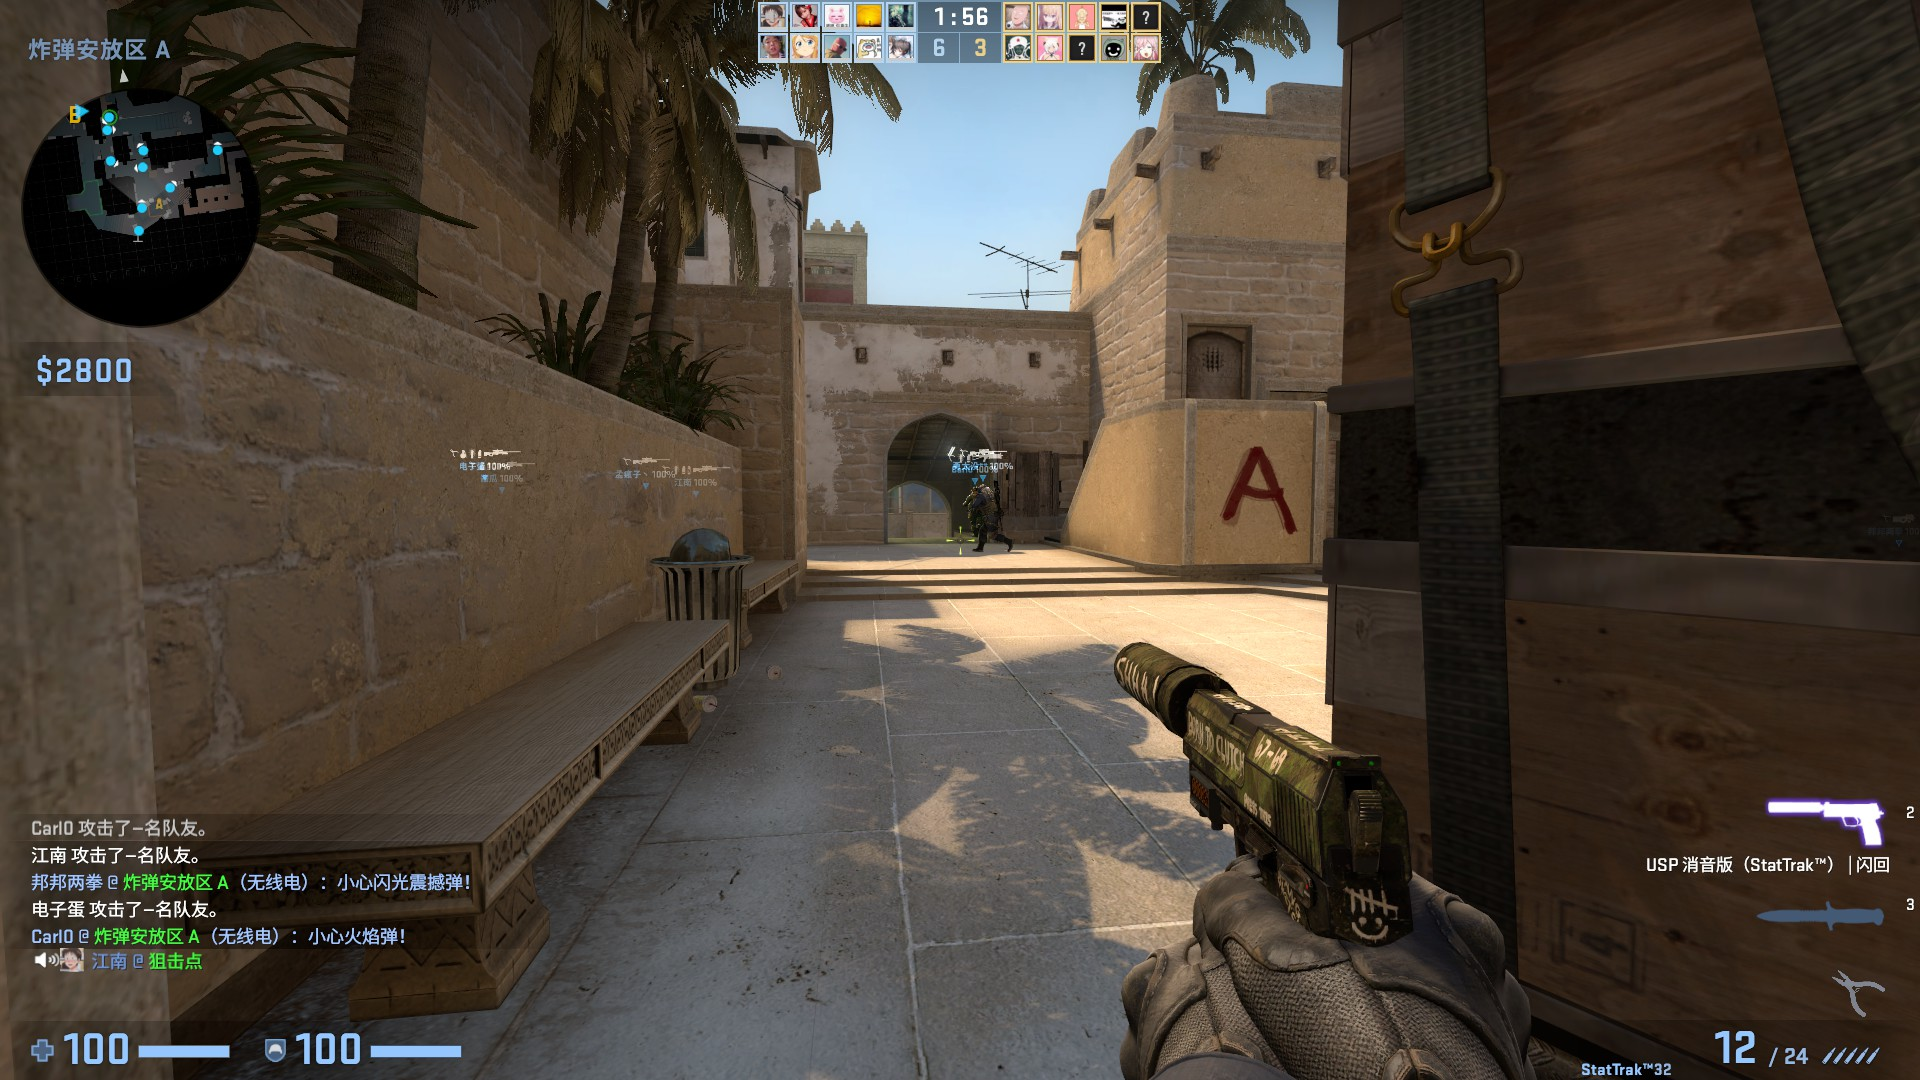head: (979, 482, 987, 491), (970, 486, 978, 493)
